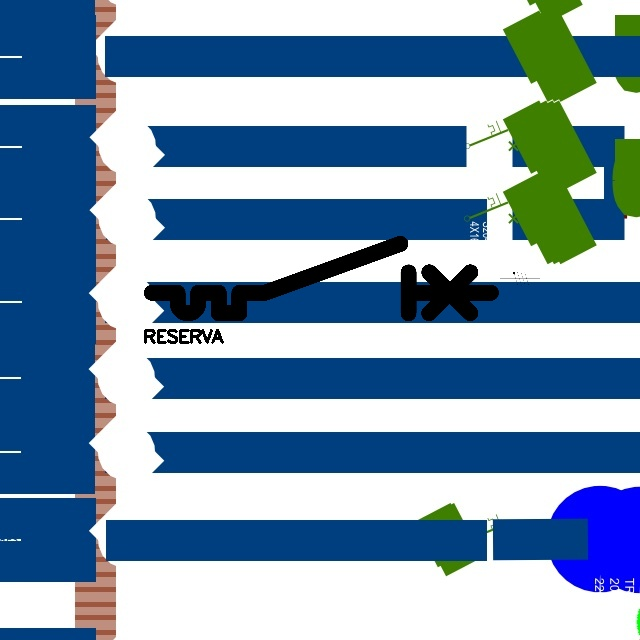interruptor_termomagnetico: (143, 235, 499, 322)
